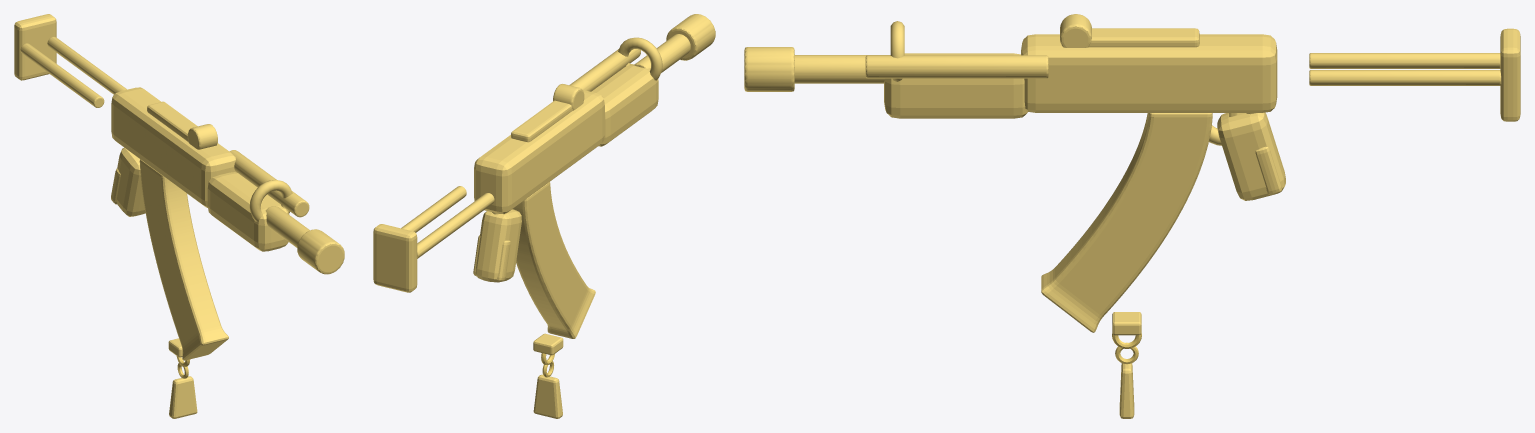
The model's file is mp5_gold.glb.
The picture shows the model from 3 angles, left to right: view 1: azimuth 30°, elevation 25°; view 2: azimuth 150°, elevation 25°; view 3: azimuth 270°, elevation 25°; orthographic projection. The views are drawn at different scales.
Visible parts, largest first — view 1: WPN_MP5_Mag_Gold.001, WPN_MP5_Receiver_Gold.001, WPN_MP5_Handguard_Gold.001, WPN_MP5_ButtPlate_Gold.001, WPN_MP5_Muzzle_Gold.001, WPN_MP5_Grip_Gold.001, WPN_MP5_CockTube_Gold.001, WPN_MP5_StockRodL_Gold.001, WPN_MP5_StockRodR_Gold.001, WPN_MP5_GoldBar.001, WPN_MP5_Barrel_Gold.001, WPN_MP5_Rail_Gold.001 (+2 smaller); view 2: WPN_MP5_Receiver_Gold.001, WPN_MP5_Mag_Gold.001, WPN_MP5_Handguard_Gold.001, WPN_MP5_ButtPlate_Gold.001, WPN_MP5_Grip_Gold.001, WPN_MP5_StockRodL_Gold.001, WPN_MP5_Muzzle_Gold.001, WPN_MP5_Rail_Gold.001, WPN_MP5_CockTube_Gold.001, WPN_MP5_GoldBar.001, WPN_MP5_StockRodR_Gold.001, WPN_MP5_Barrel_Gold.001 (+4 smaller); view 3: WPN_MP5_Receiver_Gold.001, WPN_MP5_Mag_Gold.001, WPN_MP5_Handguard_Gold.001, WPN_MP5_CockTube_Gold.001, WPN_MP5_Grip_Gold.001, WPN_MP5_StockRodR_Gold.001, WPN_MP5_StockRodL_Gold.001, WPN_MP5_Muzzle_Gold.001, WPN_MP5_Barrel_Gold.001, WPN_MP5_Rail_Gold.001, WPN_MP5_ButtPlate_Gold.001, WPN_MP5_RearSight_Gold.001 (+3 smaller).
Part boxes in pixels (bbox=[...]): WPN_MP5_Mag_Gold.001: bbox=[139, 159, 228, 360]; WPN_MP5_Receiver_Gold.001: bbox=[111, 87, 236, 207]; WPN_MP5_Handguard_Gold.001: bbox=[207, 172, 289, 251]; WPN_MP5_ButtPlate_Gold.001: bbox=[14, 14, 56, 80]; WPN_MP5_Muzzle_Gold.001: bbox=[297, 229, 344, 274]; WPN_MP5_Grip_Gold.001: bbox=[116, 147, 145, 216]; WPN_MP5_CockTube_Gold.001: bbox=[229, 150, 309, 217]; WPN_MP5_StockRodL_Gold.001: bbox=[20, 43, 104, 107]; WPN_MP5_StockRodR_Gold.001: bbox=[47, 36, 126, 94]; WPN_MP5_GoldBar.001: bbox=[169, 376, 197, 418]; WPN_MP5_Barrel_Gold.001: bbox=[265, 206, 309, 247]; WPN_MP5_Rail_Gold.001: bbox=[147, 101, 197, 141]; WPN_MP5_Receiver_Gold.001: bbox=[474, 90, 604, 214]; WPN_MP5_Mag_Gold.001: bbox=[512, 182, 595, 338]; WPN_MP5_Handguard_Gold.001: bbox=[591, 64, 658, 146]; WPN_MP5_ButtPlate_Gold.001: bbox=[373, 224, 417, 292]; WPN_MP5_Grip_Gold.001: bbox=[476, 209, 521, 282]; WPN_MP5_StockRodL_Gold.001: bbox=[417, 193, 494, 258]; WPN_MP5_Muzzle_Gold.001: bbox=[666, 14, 715, 60]; WPN_MP5_Rail_Gold.001: bbox=[511, 100, 572, 142]; WPN_MP5_CockTube_Gold.001: bbox=[569, 49, 640, 91]; WPN_MP5_GoldBar.001: bbox=[533, 374, 562, 418]; WPN_MP5_StockRodR_Gold.001: bbox=[401, 186, 466, 232]; WPN_MP5_Barrel_Gold.001: bbox=[634, 34, 690, 72]; WPN_MP5_Receiver_Gold.001: bbox=[1021, 34, 1277, 112]; WPN_MP5_Mag_Gold.001: bbox=[1041, 113, 1212, 332]; WPN_MP5_Handguard_Gold.001: bbox=[884, 53, 1027, 118]; WPN_MP5_CockTube_Gold.001: bbox=[865, 55, 1048, 78]; WPN_MP5_Grip_Gold.001: bbox=[1217, 112, 1285, 200]; WPN_MP5_StockRodR_Gold.001: bbox=[1309, 70, 1501, 85]; WPN_MP5_StockRodL_Gold.001: bbox=[1309, 53, 1500, 68]; WPN_MP5_Muzzle_Gold.001: bbox=[744, 47, 794, 91]; WPN_MP5_Barrel_Gold.001: bbox=[794, 55, 890, 83]; WPN_MP5_Rail_Gold.001: bbox=[1089, 28, 1199, 47]; WPN_MP5_ButtPlate_Gold.001: bbox=[1500, 28, 1520, 121]; WPN_MP5_RearSight_Gold.001: bbox=[1060, 14, 1091, 47].
Size of the model in its own units: 0.0777 by 0.4741 by 0.8485.
